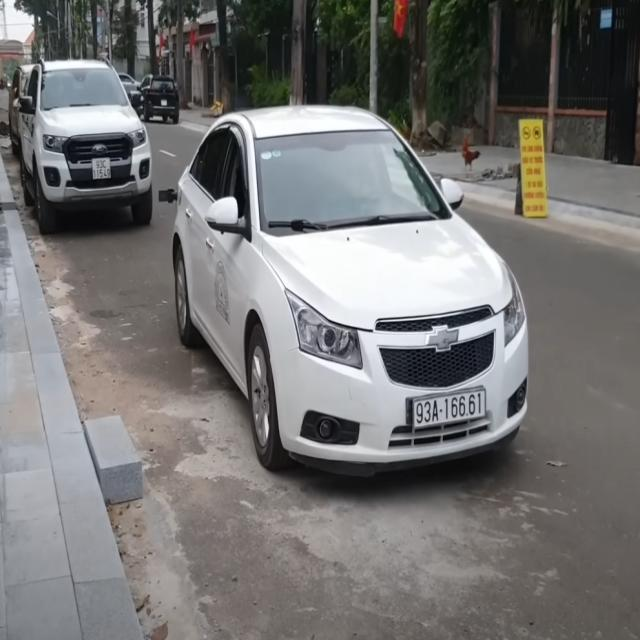car: (160, 103, 528, 487), (11, 57, 155, 237), (136, 74, 184, 126)
plate: (409, 386, 490, 432)
